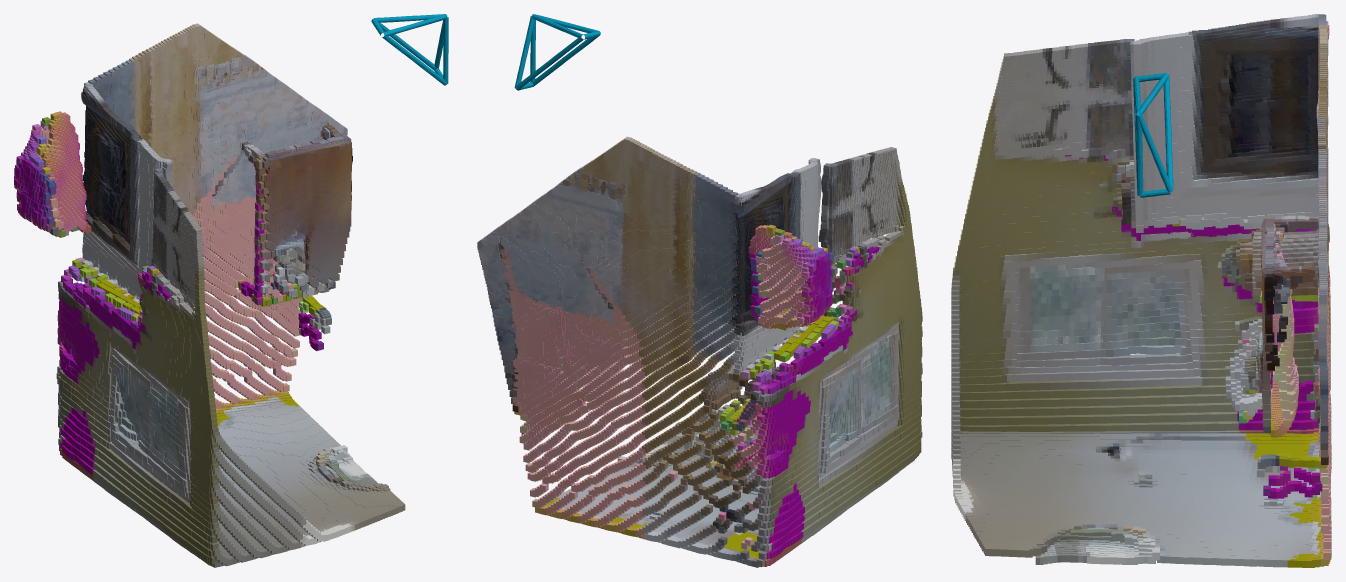
3 renders of one model, left to right at view 1: azimuth 30°, elevation 25°; view 2: azimuth 150°, elevation 25°; view 3: azimuth 270°, elevation 25°, orthographic. The views are drawn at different scales.
Bounding box in the file's own units: 3.21 × 3.69 × 2.47.
